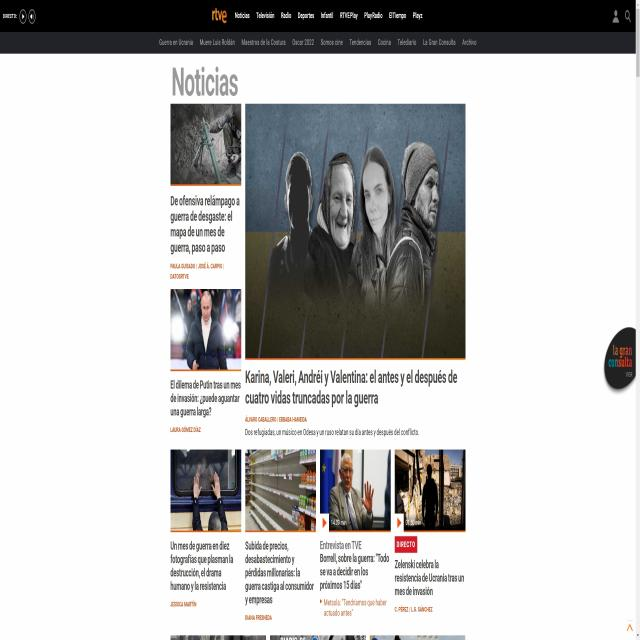menu-bar: (610, 4, 632, 26)
tab-bar: (154, 33, 479, 48), (208, 5, 428, 25)
